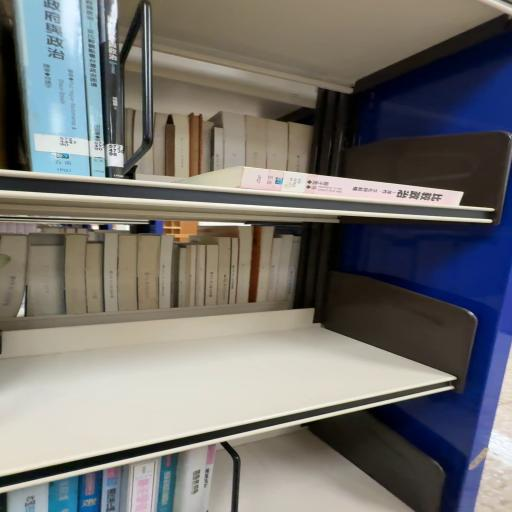flat: (177, 167, 465, 206)
